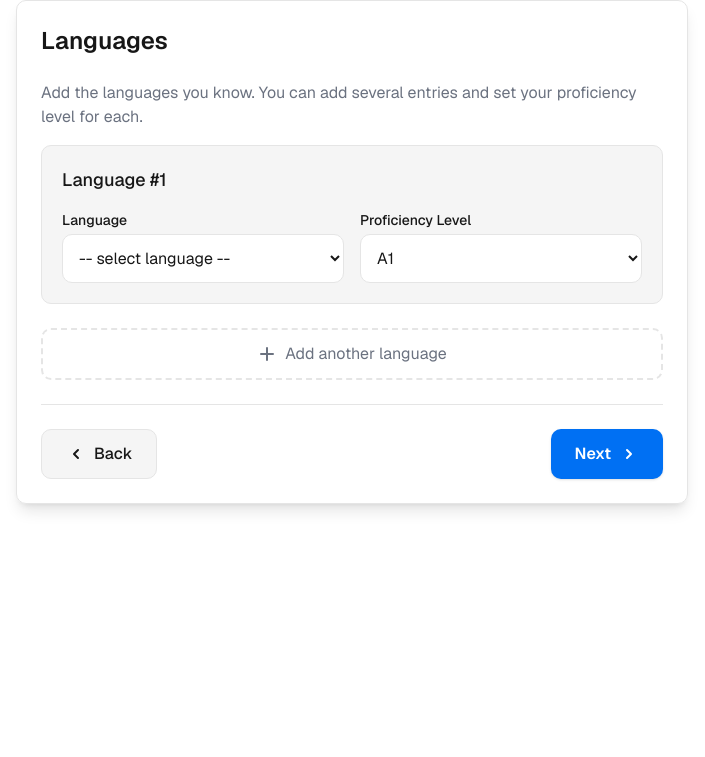
Test: UserLanguages Component › Walidacja i Submisja › powinien pokazać błąd walidacji, jeśli użytkownik wybrał ten sam język dwa razy
Click the button "Add another language": (352, 354) [41, 328, 663, 380]
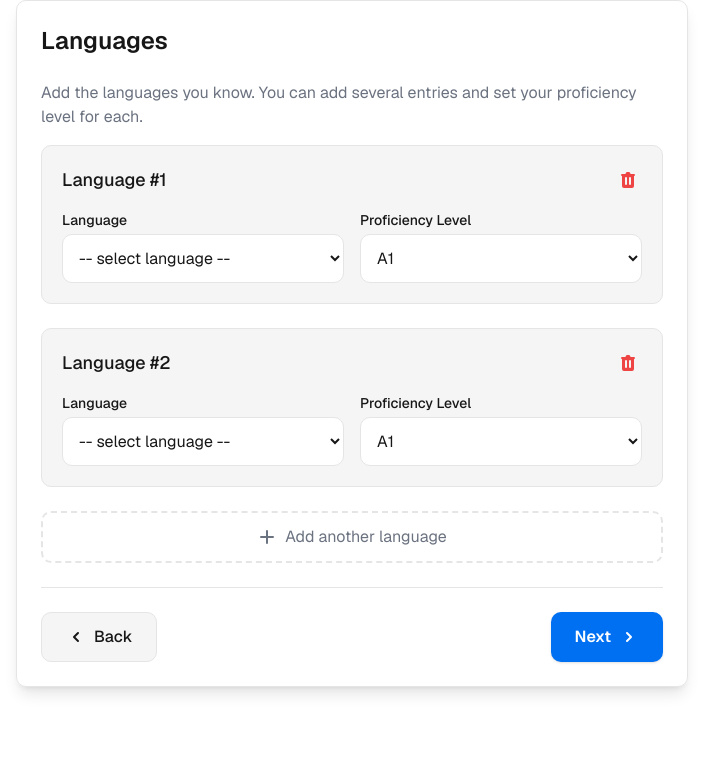
Select "Angielski (EN)" in the 1st dropdown: (203, 258) [62, 234, 344, 283]
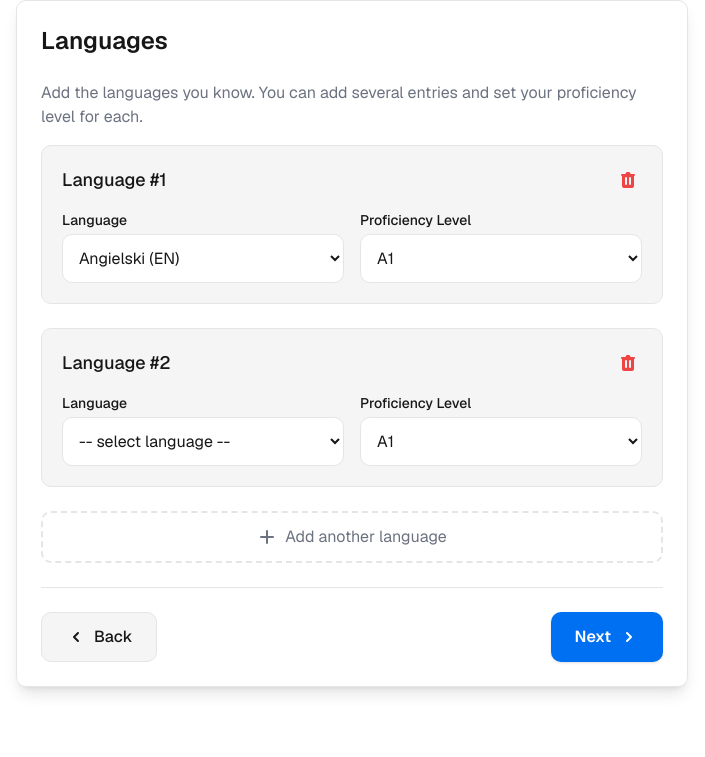
Select "Angielski (EN)" in the 3rd dropdown: (203, 442) [62, 417, 344, 466]
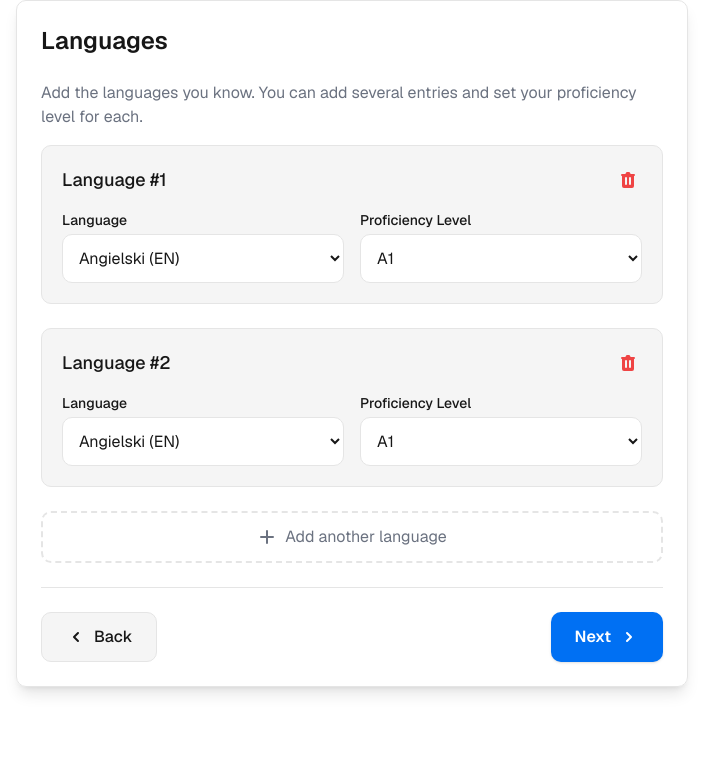
Click the button "Next": (607, 637) [551, 612, 663, 662]
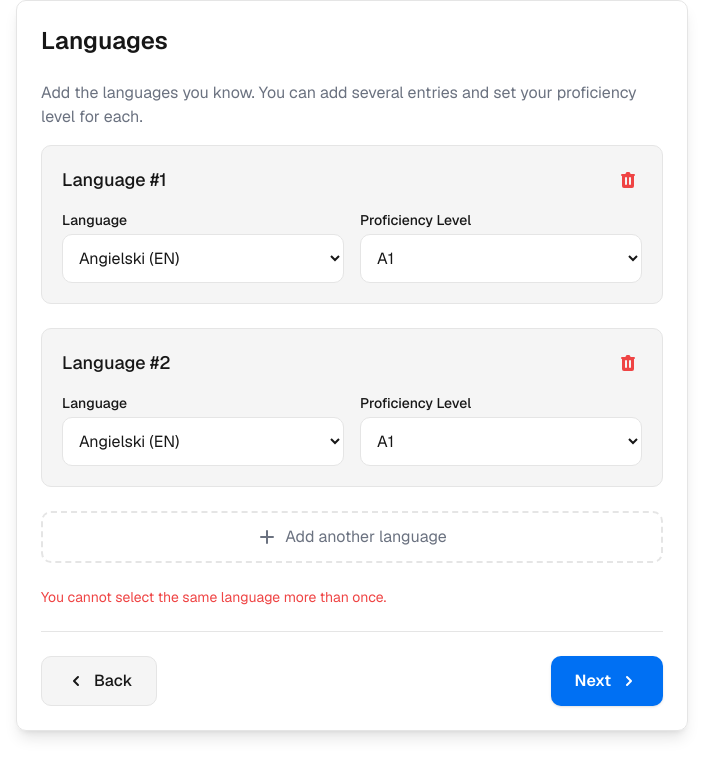
Expected: the text "You cannot select the same language more than once." is shown, [41, 588, 386, 606]
